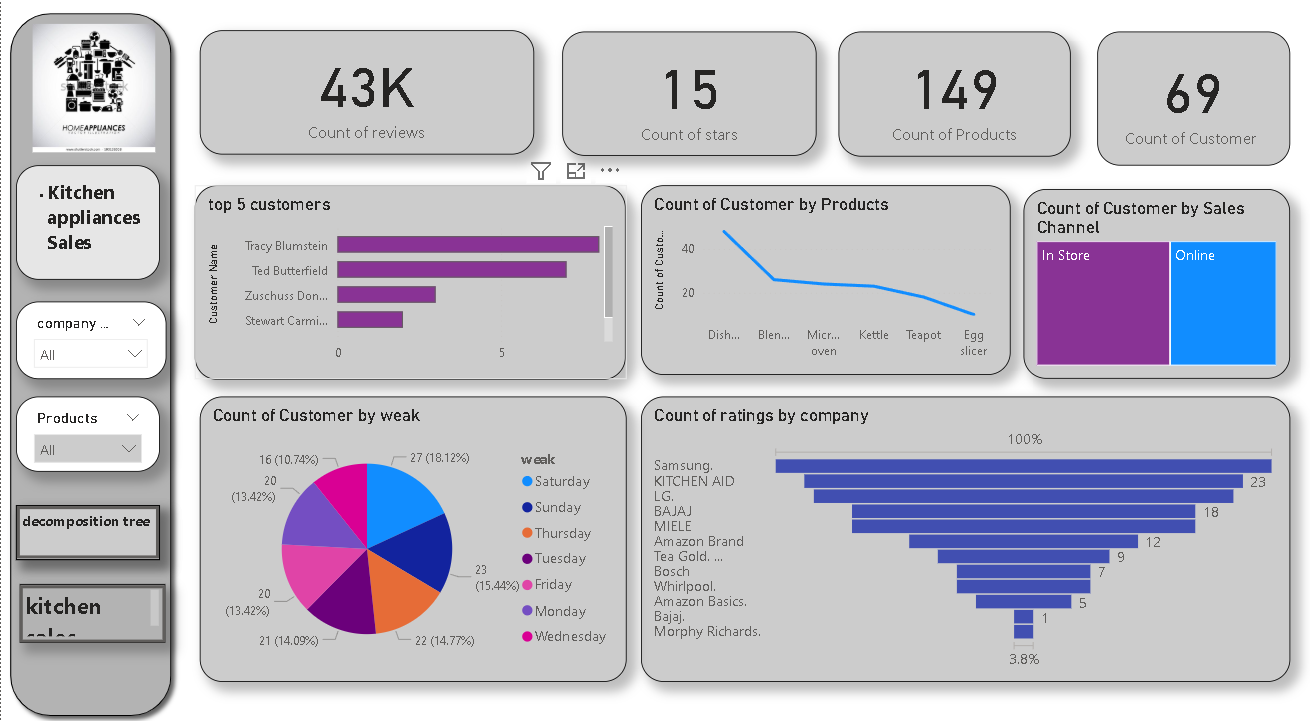

Layout of this report page (visuals, bound fields, positions):
{"tool":"powerbi","page":{"name":"customer reviews","canvas":[1280,720],"ordinal":1},"visuals":[{"type":"barChart","title":"top 5 customers","fields":{"Category":["customer rewiew.Customer Name"],"Y":["CountNonNull(sales.Total Sales)"]},"box":[190.1,191.5,421.9,190.1],"z":0},{"type":"card","fields":{"Values":["Max(customer rewiew.reviewsCount)"]},"box":[194.3,39.9,326.8,121.6],"z":1000},{"type":"card","fields":{"Values":["Count(customer rewiew.stars)"]},"box":[548.8,41.1,248.5,121.6],"z":2000},{"type":"shape","box":[0,14.4,175.7,705.6],"z":3000},{"type":"slicer","fields":{"Values":["product and company.company name"]},"box":[14.4,305.3,146.9,76.3],"z":4000},{"type":"treemap","fields":{"Group":["customer rewiew.Sales Channel"],"Values":["CountNonNull(customer rewiew.Customer Name)"]},"box":[1000.8,195.8,260.6,185.8],"z":5000},{"type":"card","fields":{"Values":["CountNonNull(product and company.Products)"]},"box":[819.4,41.8,227.5,122.4],"z":6000},{"type":"card","fields":{"Values":["Count(customer rewiew.Customer Name)"]},"box":[1072.8,41.8,188.6,131],"z":7000},{"type":"funnel","title":"Count of ratings by company ","fields":{"Category":["product and company.company name"],"Y":["CountNonNull(customer rewiew.stars)"]},"box":[626.4,398.9,635,279.4],"z":8000},{"type":"pieChart","fields":{"Category":["week.weak"],"Y":["CountNonNull(customer rewiew.Customer Name)"]},"box":[194.4,398.9,417.6,279.4],"z":9000},{"type":"slicer","fields":{"Values":["product and company.Products"]},"box":[14.4,398.9,141.1,73.4],"z":10000},{"type":"textbox","box":[14.4,172.8,141.1,112.3],"z":11000},{"type":"image","box":[5.8,28.8,169.9,135.4],"z":12000},{"type":"lineChart","fields":{"Category":["product and company.Products"],"Y":["CountNonNull(customer rewiew.Customer Name)"]},"box":[626.4,191.5,361.4,185.8],"z":13000},{"type":"textbox","box":[18.7,581.8,142.6,57.6],"z":14000},{"type":"actionButton","box":[18.7,583.2,142.6,56.2],"z":15000},{"type":"textbox","box":[14.4,505.4,141.1,53.3],"z":16000},{"type":"actionButton","box":[14.4,505.4,141.1,53.3],"z":17000}]}

Visuals, with their boxes in screenshot pixels (x1, y1, x2, y2), scaled from the page's 1280x720 canvas onto the 1310x721 screenshot:
"top 5 customers" barChart: (left=195, top=192, right=626, bottom=382)
card - Max(customer rewiew.reviewsCount): (left=199, top=40, right=533, bottom=162)
card - Count(customer rewiew.stars): (left=562, top=41, right=816, bottom=163)
shape: (left=0, top=14, right=180, bottom=720)
slicer - product and company.company name: (left=15, top=306, right=165, bottom=382)
treemap - customer rewiew.Sales Channel x CountNonNull(customer rewiew.Customer Name): (left=1024, top=196, right=1291, bottom=382)
card - CountNonNull(product and company.Products): (left=839, top=42, right=1071, bottom=164)
card - Count(customer rewiew.Customer Name): (left=1098, top=42, right=1291, bottom=173)
"Count of ratings by company " funnel: (left=641, top=399, right=1291, bottom=679)
pieChart - week.weak x CountNonNull(customer rewiew.Customer Name): (left=199, top=399, right=626, bottom=679)
slicer - product and company.Products: (left=15, top=399, right=159, bottom=473)
textbox: (left=15, top=173, right=159, bottom=285)
image: (left=6, top=29, right=180, bottom=164)
lineChart - product and company.Products x CountNonNull(customer rewiew.Customer Name): (left=641, top=192, right=1011, bottom=378)
textbox: (left=19, top=583, right=165, bottom=640)
actionButton: (left=19, top=584, right=165, bottom=640)
textbox: (left=15, top=506, right=159, bottom=559)
actionButton: (left=15, top=506, right=159, bottom=559)
